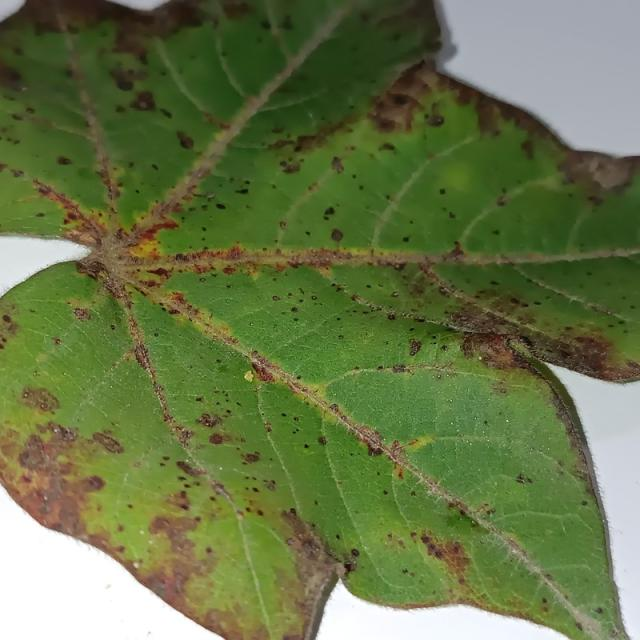Bacterial_Blight: (536, 329, 637, 382), (145, 505, 205, 561), (416, 531, 473, 584), (460, 330, 521, 369), (17, 433, 61, 474), (203, 606, 259, 636), (51, 488, 85, 532), (18, 385, 63, 414), (246, 350, 281, 381), (109, 65, 141, 93), (92, 430, 125, 455), (75, 258, 108, 282), (205, 429, 246, 448), (131, 342, 154, 375), (238, 442, 268, 467), (129, 90, 158, 112), (209, 479, 234, 503), (171, 424, 197, 446), (175, 459, 202, 478), (443, 242, 466, 261), (197, 413, 222, 429), (176, 131, 195, 151), (58, 425, 78, 443), (364, 438, 384, 456), (280, 159, 303, 174), (145, 266, 171, 279), (520, 139, 535, 160), (85, 475, 105, 490), (72, 307, 91, 321), (426, 113, 444, 127), (474, 503, 493, 516), (408, 339, 422, 356), (331, 156, 344, 173), (208, 432, 224, 445), (424, 539, 437, 555), (38, 500, 51, 515), (392, 94, 408, 106), (379, 142, 396, 153), (515, 473, 532, 484), (330, 229, 343, 243), (56, 155, 72, 166), (343, 560, 357, 572), (587, 195, 602, 206), (391, 364, 407, 374), (263, 479, 276, 491), (10, 168, 24, 178), (323, 206, 335, 217), (50, 336, 62, 347), (317, 435, 327, 445), (421, 535, 431, 545), (1, 314, 12, 323), (236, 188, 249, 195), (350, 548, 360, 557), (329, 403, 339, 412), (575, 622, 584, 632), (279, 220, 287, 230), (215, 203, 226, 210), (25, 107, 36, 114), (151, 163, 159, 172), (206, 192, 216, 199), (595, 607, 603, 615), (290, 306, 299, 313), (449, 211, 456, 219), (402, 236, 410, 243), (35, 212, 46, 217), (439, 188, 446, 195), (272, 295, 280, 301), (492, 229, 500, 235), (391, 291, 399, 297), (401, 568, 409, 574), (581, 500, 588, 506), (542, 597, 548, 604), (382, 489, 388, 495), (338, 334, 344, 340), (303, 443, 309, 449), (305, 230, 311, 236), (311, 295, 318, 300), (281, 412, 287, 417), (153, 332, 159, 337), (248, 322, 254, 326)
Cotton: (0, 0, 639, 639)
